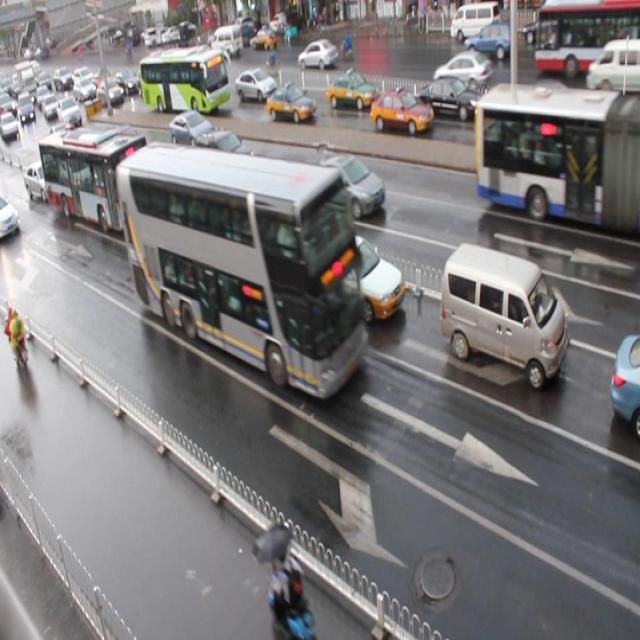car: (300, 229, 403, 321), (316, 154, 386, 218), (140, 188, 208, 252), (514, 77, 579, 134), (490, 104, 559, 156), (194, 128, 256, 185), (608, 330, 640, 432), (369, 90, 432, 134), (415, 78, 477, 122), (599, 98, 640, 159), (326, 72, 376, 111), (112, 128, 154, 173), (266, 85, 314, 124), (22, 160, 62, 204), (168, 111, 212, 147), (236, 69, 278, 103), (50, 123, 77, 163), (57, 99, 83, 129), (1, 197, 19, 240)
truck: (438, 240, 568, 389), (215, 188, 290, 284)
van: (117, 137, 367, 400), (473, 83, 640, 241), (38, 127, 154, 235), (140, 51, 229, 113)
